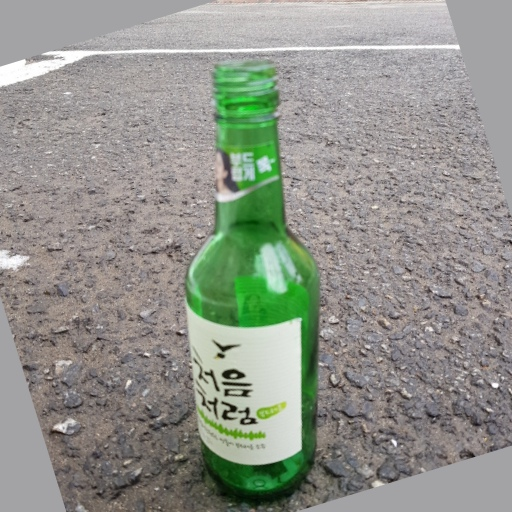Glass_0: (182, 57, 323, 499)
